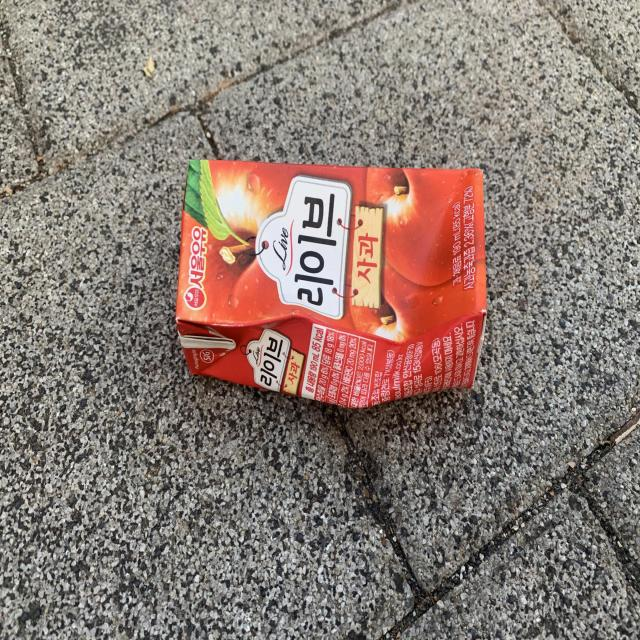paperpack: (176, 159, 487, 408)
